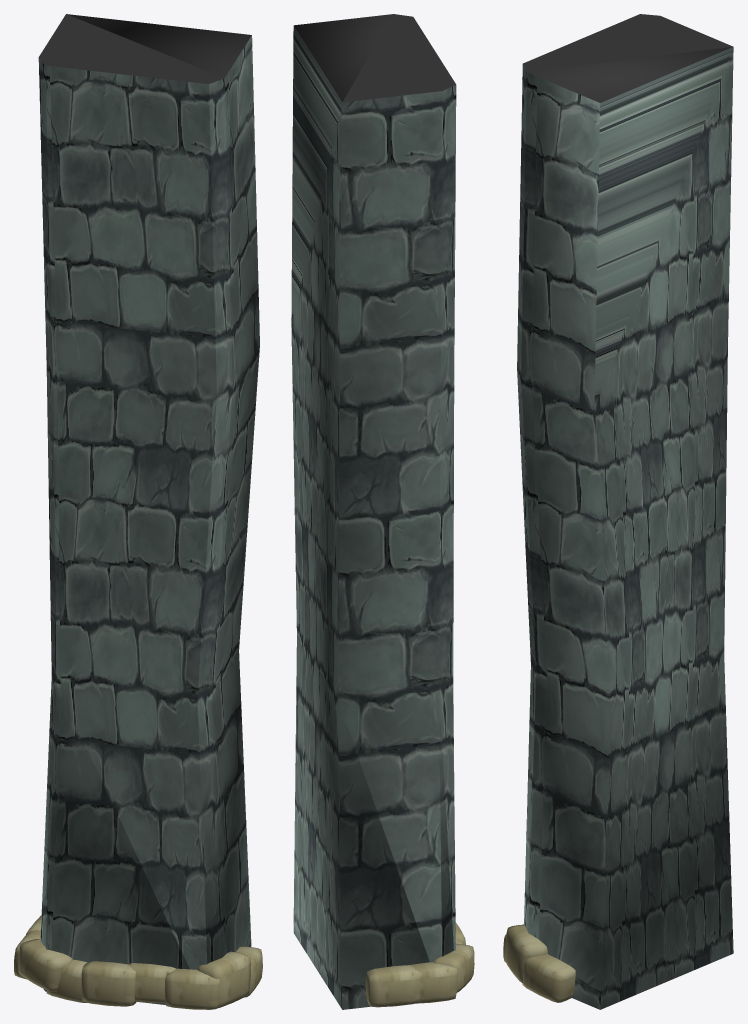
File: Fireplace_Chimney.fbx
3 renders of one model, left to right at view 1: azimuth 30°, elevation 25°; view 2: azimuth 150°, elevation 25°; view 3: azimuth 270°, elevation 25°, orthographic. The views are drawn at different scales.
Visible parts, largest first — view 1: 1_Fireplace_Chimney; view 2: 1_Fireplace_Chimney; view 3: 1_Fireplace_Chimney.
Boxes of the visible parts, <box> form: 1_Fireplace_Chimney: <box>14,14,262,1009</box>; 1_Fireplace_Chimney: <box>291,14,474,1009</box>; 1_Fireplace_Chimney: <box>503,14,733,1009</box>.
Size of the model in its own units: 105 by 448 by 103.
